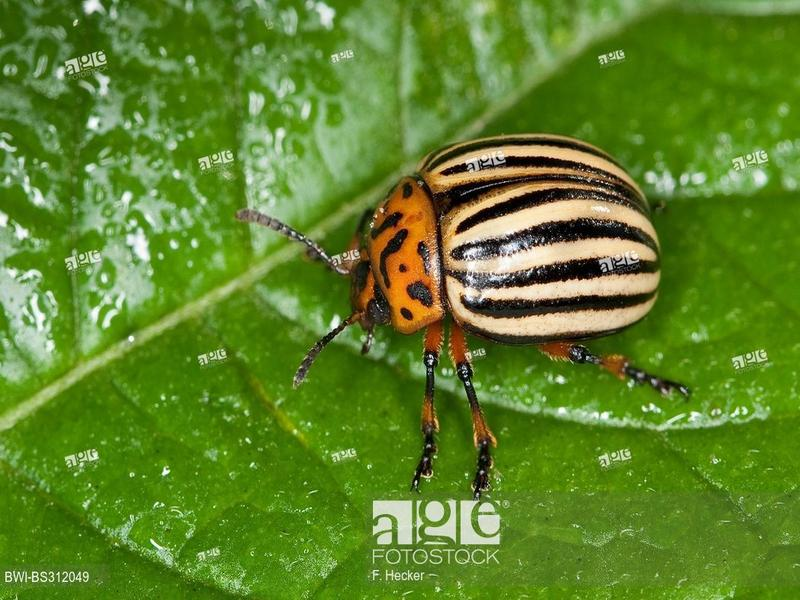hrosc: (336, 121, 675, 395)
